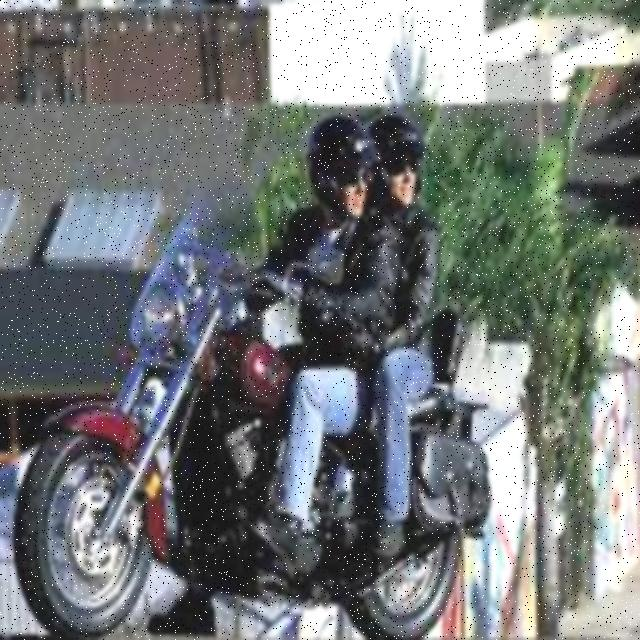not_triplets: (30, 64, 470, 629)
with-helmet: (287, 107, 385, 261), (373, 90, 437, 231)
